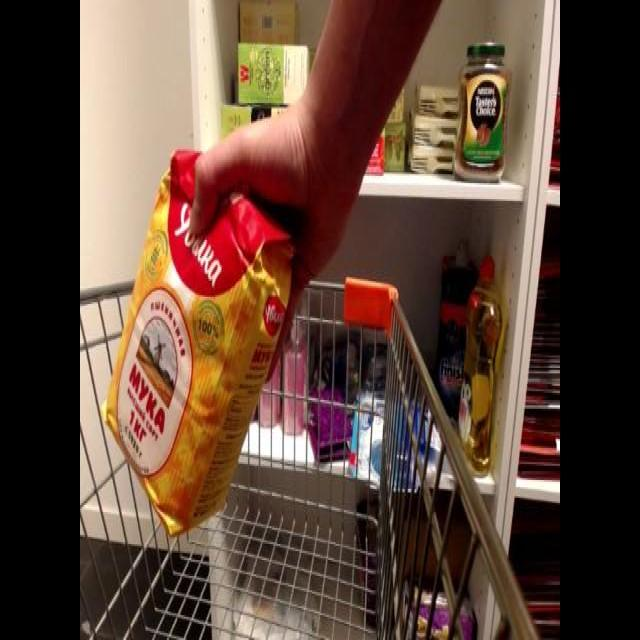Flour: (100, 138, 304, 540)
